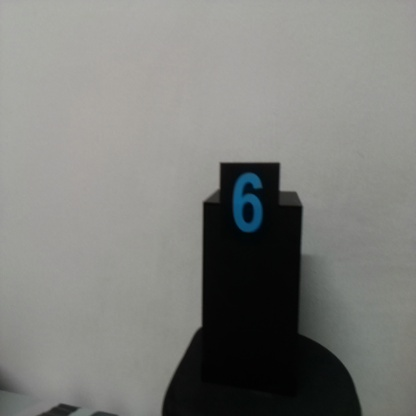id_6: (220, 162, 280, 259)
